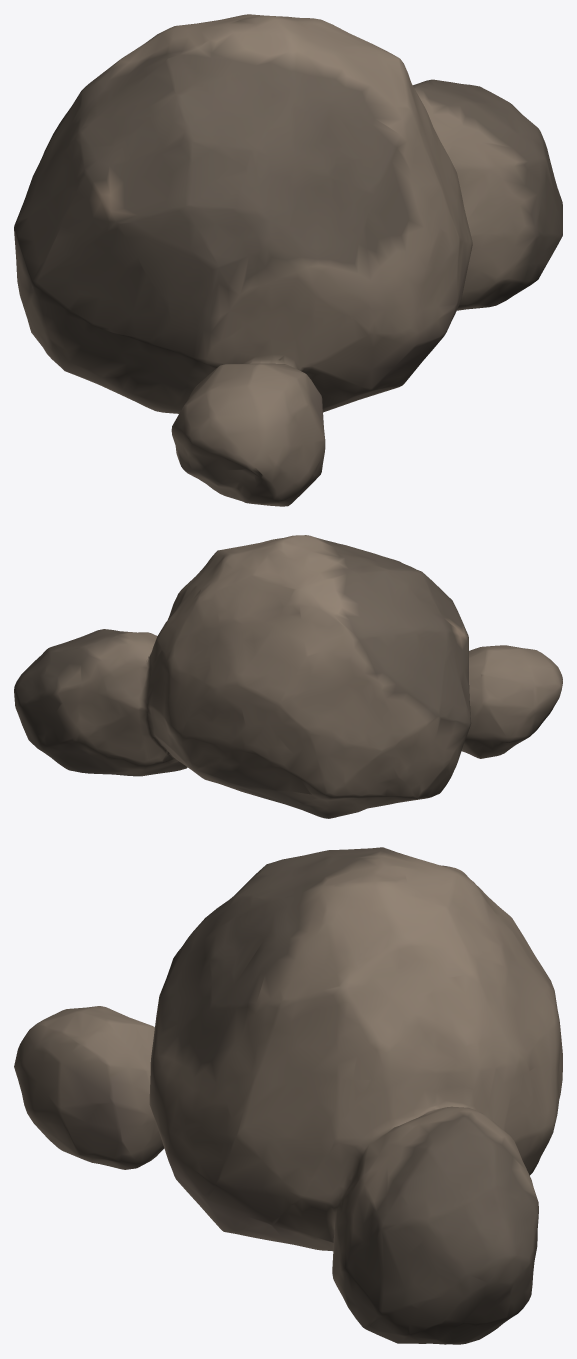
File: rock_cluster.glb
3 renders of one model, top to bottom at view 1: azimuth 30°, elevation 25°; view 2: azimuth 150°, elevation 25°; view 3: azimuth 270°, elevation 25°, orthographic. The views are drawn at different scales.
Parts seen in each view (by area): view 1: rock_cluster_LOD0; view 2: rock_cluster_LOD0; view 3: rock_cluster_LOD0.
Boxes of the visible parts, x1,y1,x2,y2 form: rock_cluster_LOD0: (14, 14, 562, 506); rock_cluster_LOD0: (14, 535, 562, 818); rock_cluster_LOD0: (14, 847, 562, 1344).
Size of what is drawn, in the model's own units: 0.858 by 0.4973 by 0.7219.
